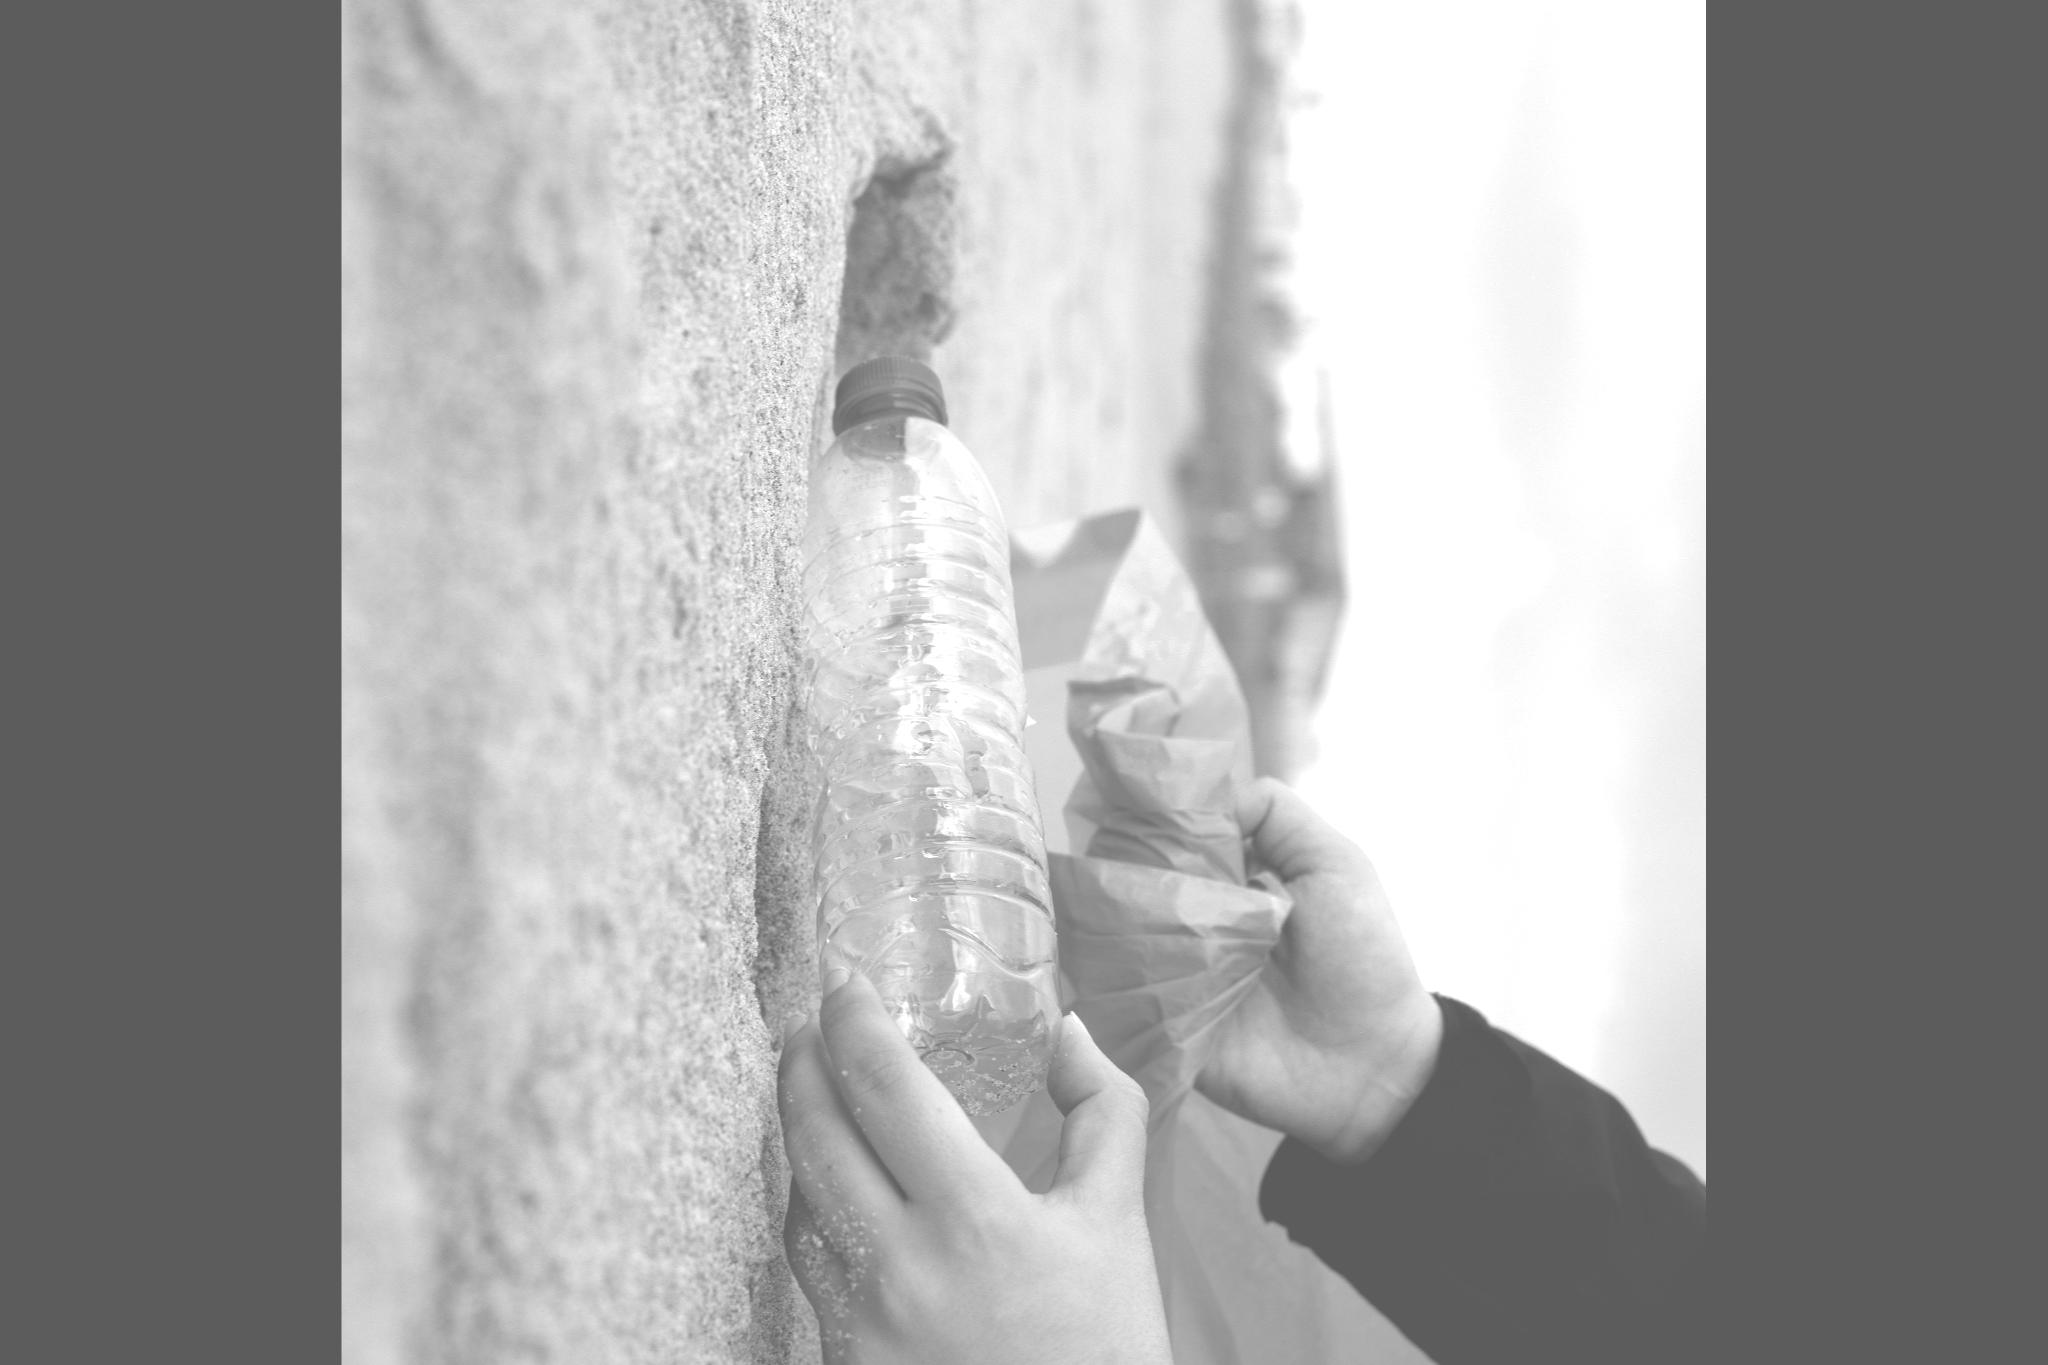bottle: (731, 334, 1109, 1146)
